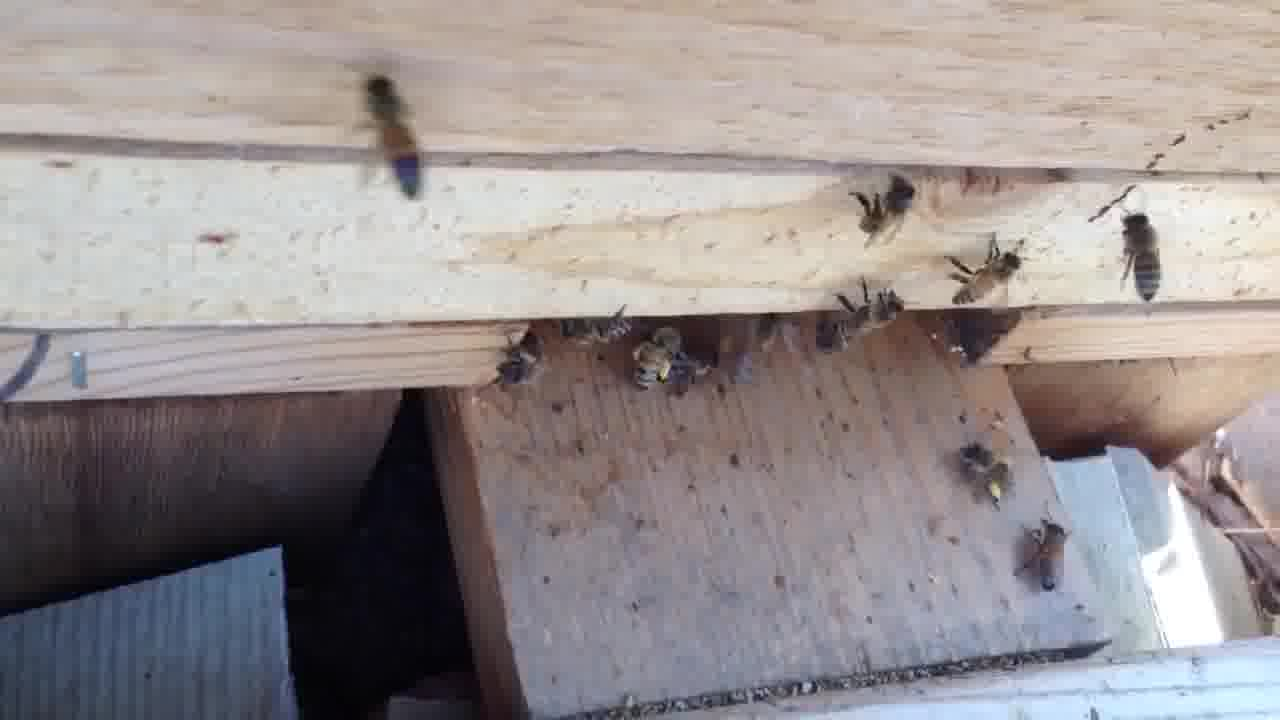pollen: (955, 439, 1023, 511), (626, 324, 683, 392)
